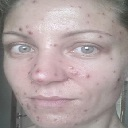Chickenpox: (69, 63, 92, 80), (26, 68, 43, 90), (81, 10, 96, 28), (18, 23, 35, 34)
